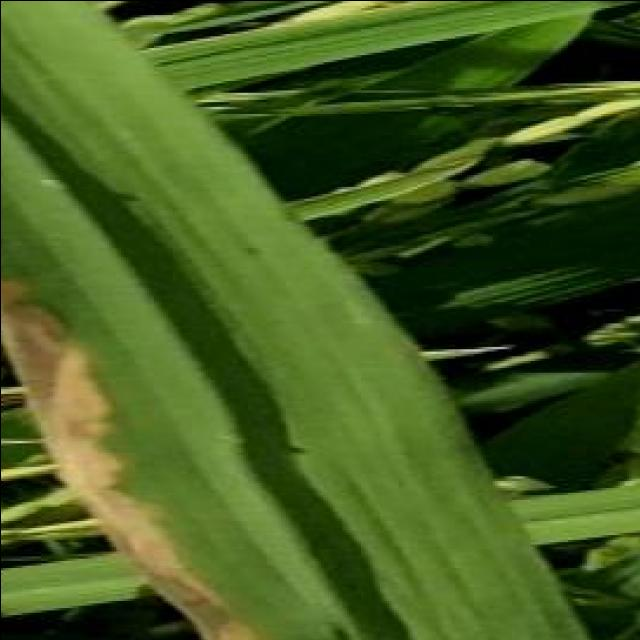Bacterial_Leaf_Blight: (25, 103, 304, 513)
